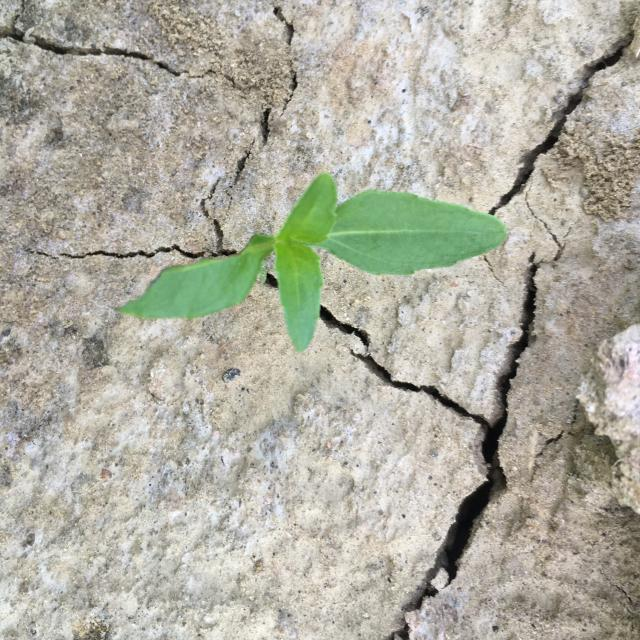Eclipta: (114, 172, 508, 352)
